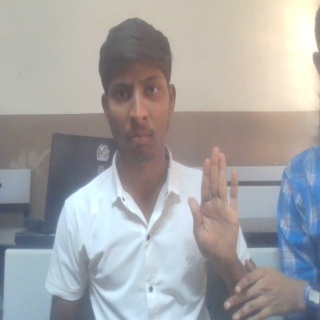Face: (96, 16, 178, 169)
Hello: (187, 144, 243, 269)
